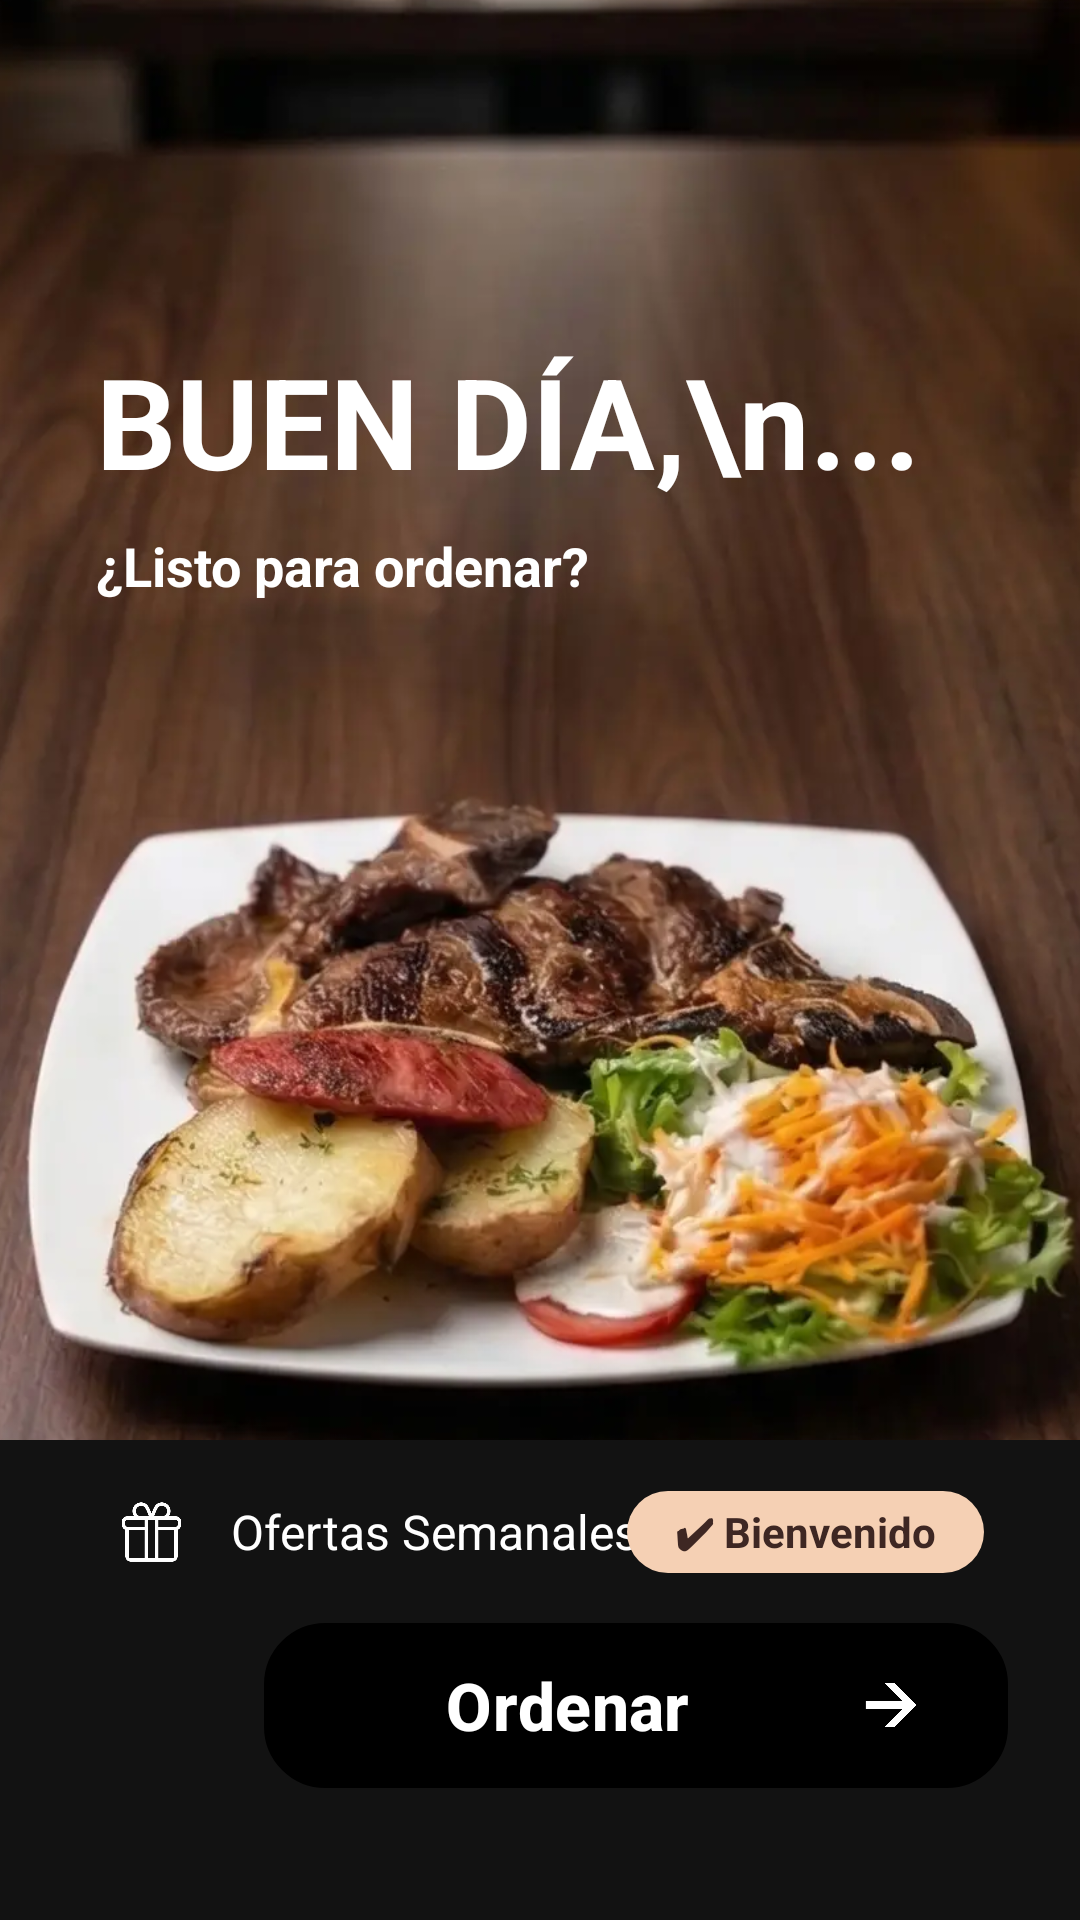

Screen size 1080*1920. Icon name, then its box in pixels as [left=x1, top=y1, right=x2, bottom=y2]:
regalo: [left=122, top=1502, right=181, bottom=1562]
